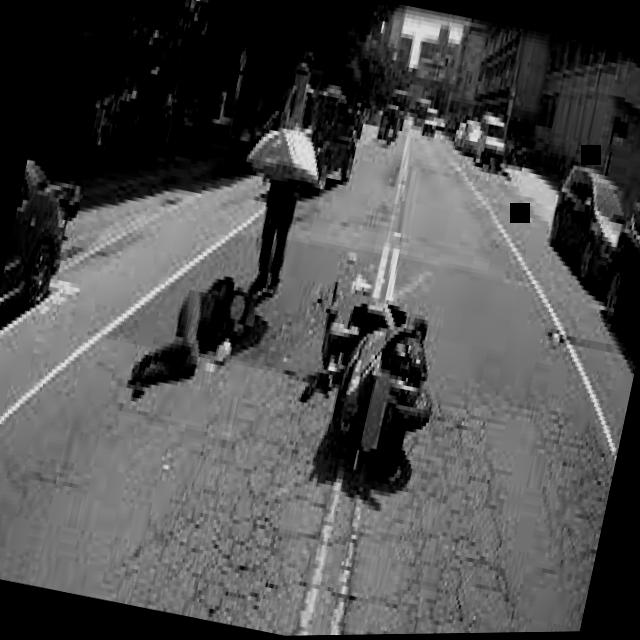Fall-Detected: (121, 233, 278, 425)
